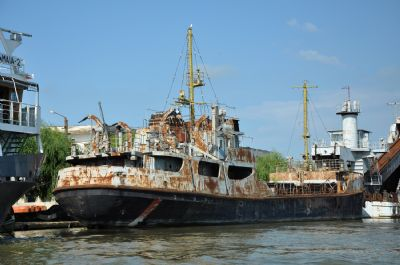rust: (171, 176, 193, 188), (94, 173, 114, 184), (238, 150, 255, 162), (204, 178, 218, 191)
